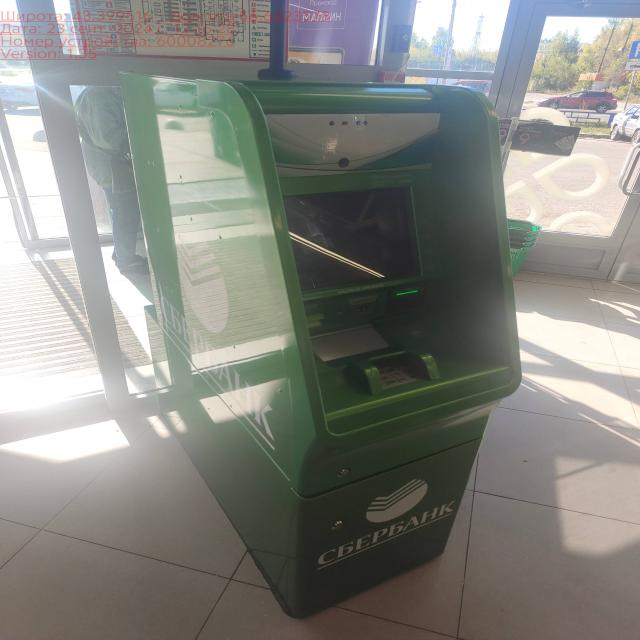bank: (109, 73, 529, 620)
